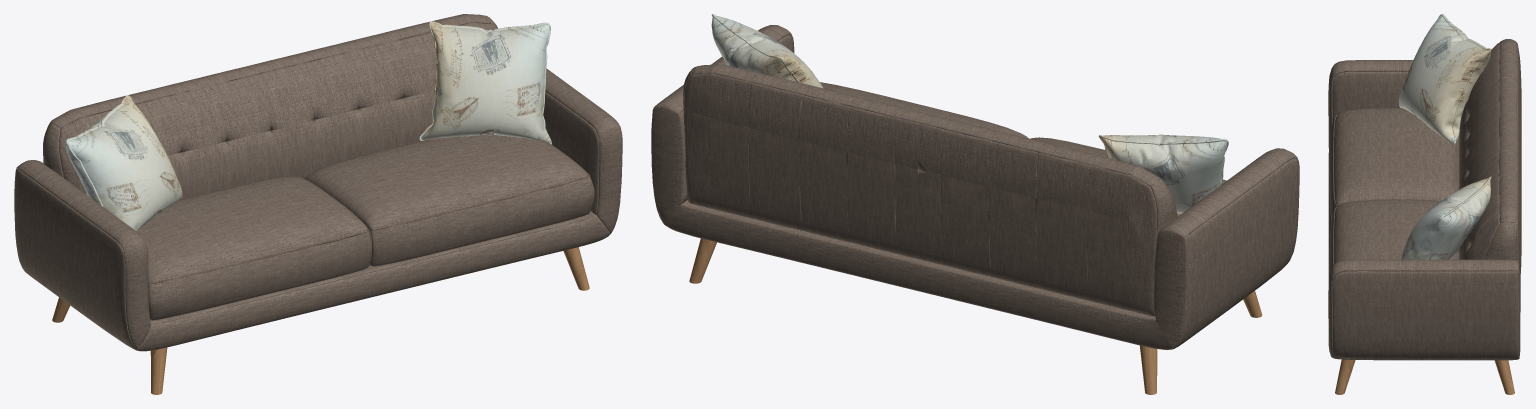
Rendered from MTNA8379.obj.
The picture shows the model from 3 angles, left to right: view 1: azimuth 30°, elevation 25°; view 2: azimuth 150°, elevation 25°; view 3: azimuth 270°, elevation 25°; orthographic projection. The views are drawn at different scales.
Parts seen in each view (by area): view 1: not_clear_obj_0_v6, not_clear_obj_2_v6, not_clear_obj_1_v6; view 2: not_clear_obj_0_v6, not_clear_obj_2_v6, not_clear_obj_1_v6; view 3: not_clear_obj_0_v6, not_clear_obj_2_v6, not_clear_obj_1_v6.
Boxes of the visible parts, x1=… form: not_clear_obj_0_v6: x1=14, y1=14, x2=622, y2=351; not_clear_obj_2_v6: x1=65, y1=21, x2=551, y2=231; not_clear_obj_1_v6: x1=52, y1=247, x2=589, y2=394; not_clear_obj_0_v6: x1=651, y1=25, x2=1299, y2=349; not_clear_obj_2_v6: x1=711, y1=14, x2=1228, y2=213; not_clear_obj_1_v6: x1=689, y1=238, x2=1262, y2=394; not_clear_obj_0_v6: x1=1328, y1=39, x2=1521, y2=360; not_clear_obj_2_v6: x1=1398, y1=14, x2=1491, y2=259; not_clear_obj_1_v6: x1=1335, y1=359, x2=1514, y2=394.
Size of what is drawn, in the model's own units: 218 by 90.29 by 83.95.
